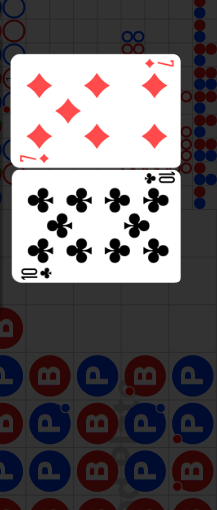10C: (20, 264, 54, 280)
7D: (143, 58, 175, 69)
